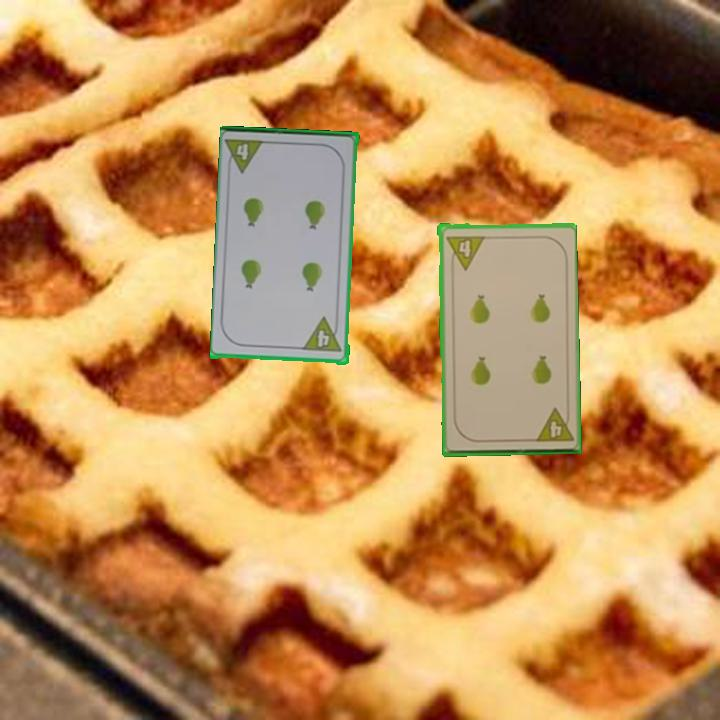4p: (300, 315, 345, 356), (224, 135, 269, 176), (532, 404, 576, 445), (442, 232, 486, 272)
